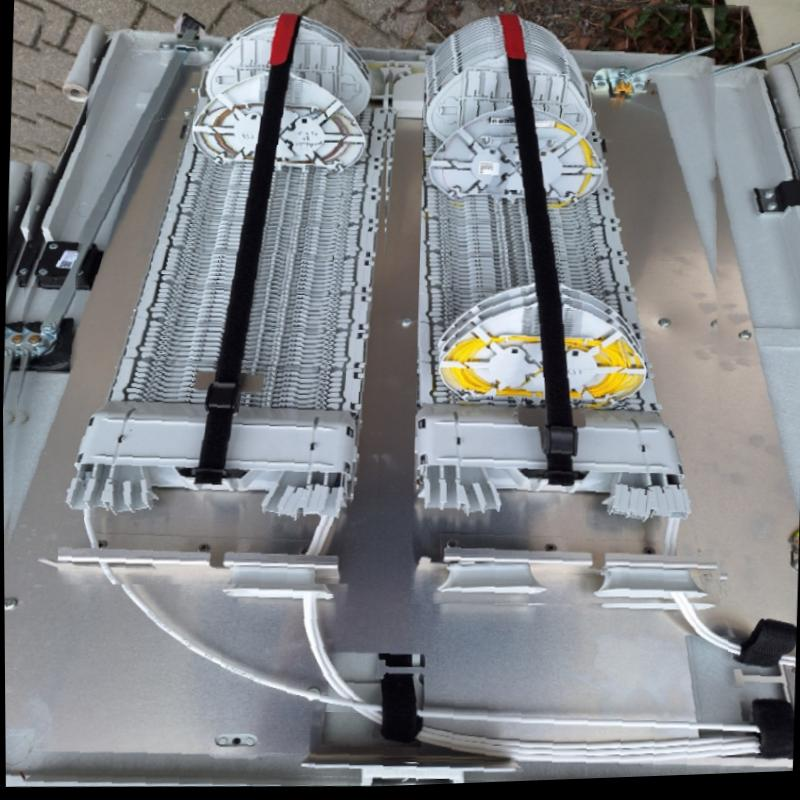NT-Gehause: (3, 7, 800, 789)
Spleiskassetten: (56, 3, 388, 586), (414, 5, 718, 608)
